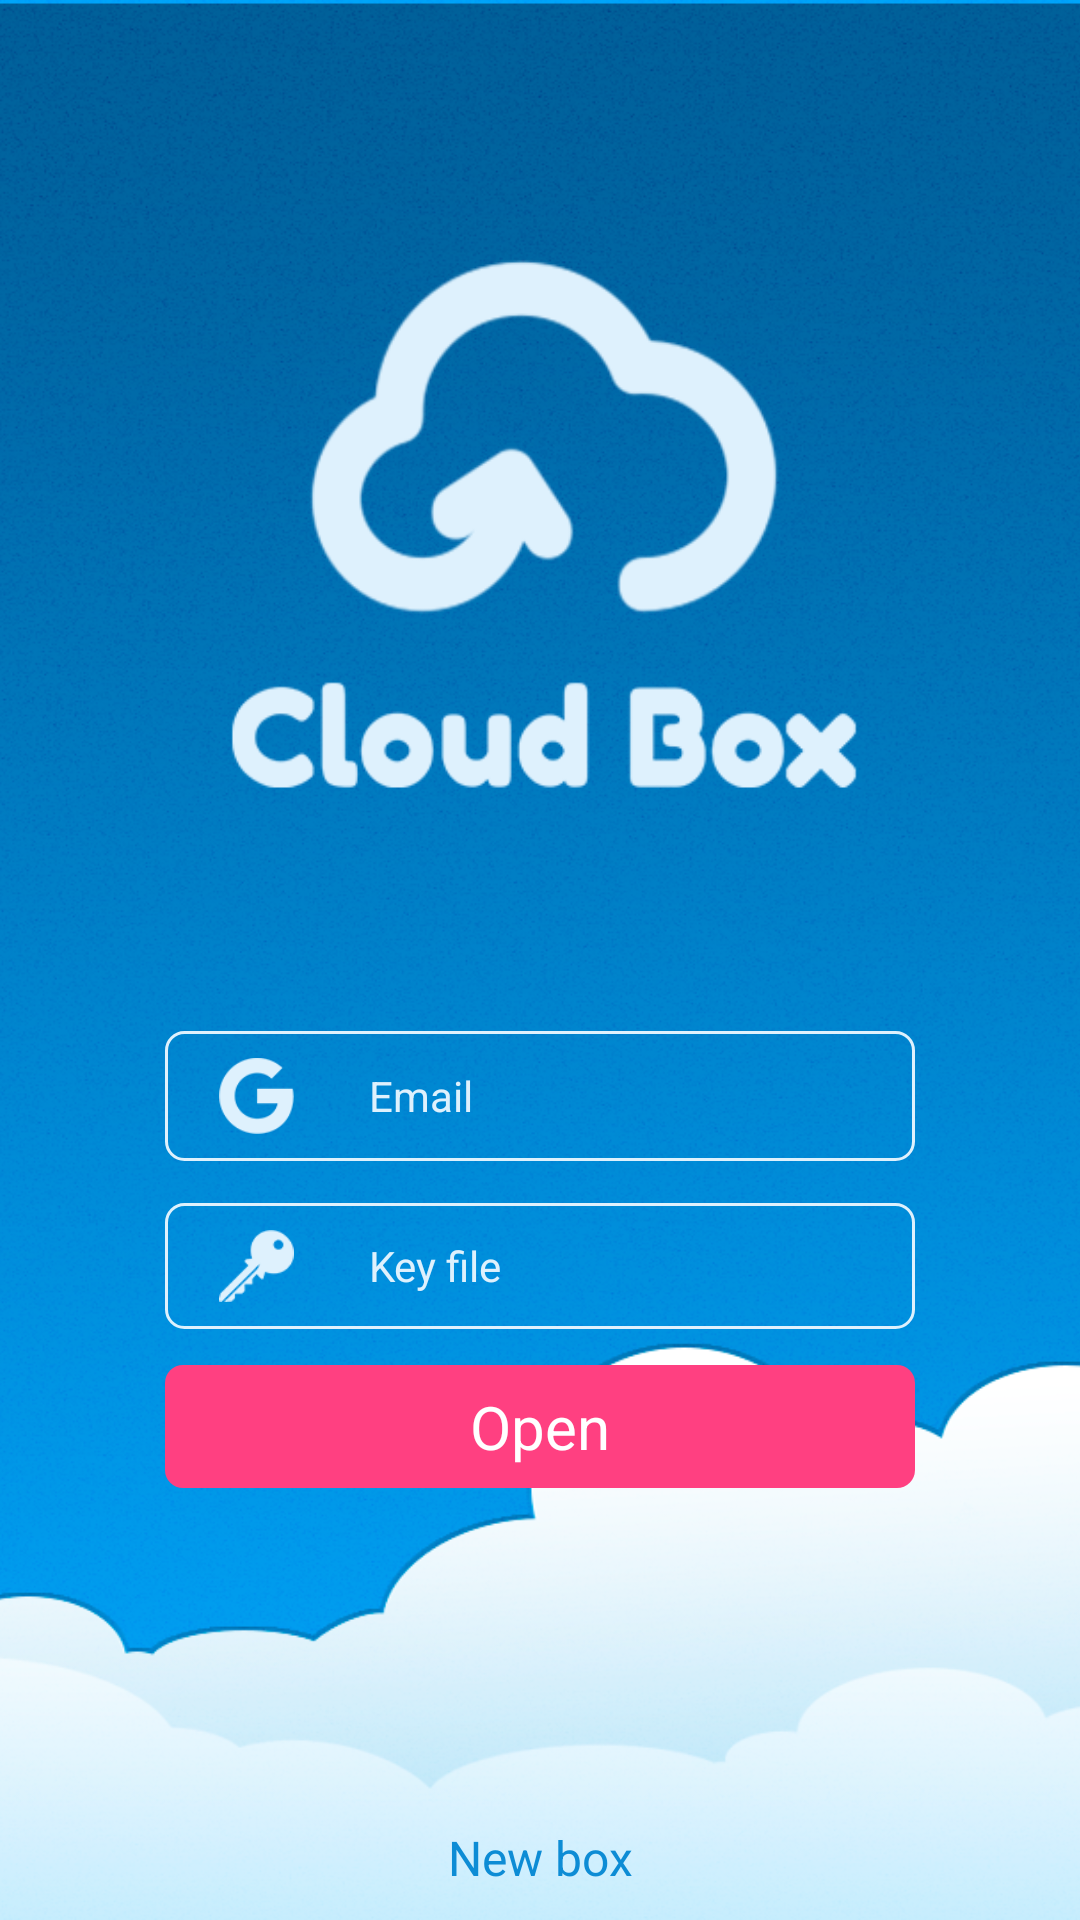

Icons on this 1080w x 1920h Android screen, each with its box as (x1, y1, x2, y2):
keyy: (219, 1230, 294, 1302)
